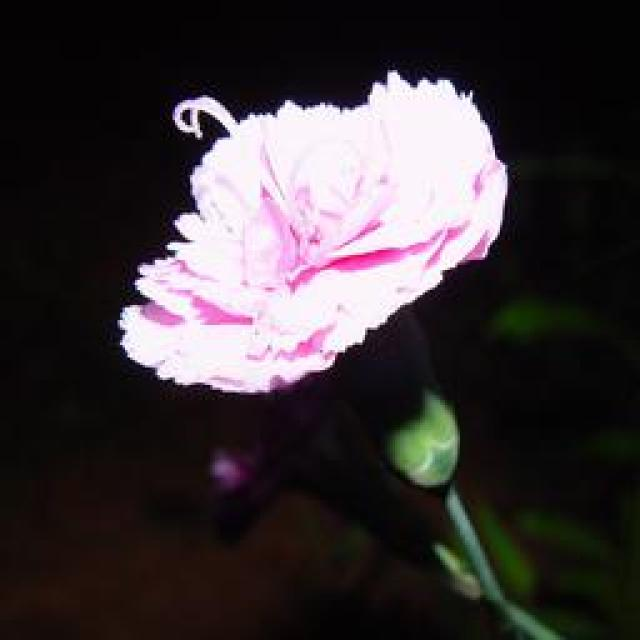carnation: (108, 59, 547, 402)
